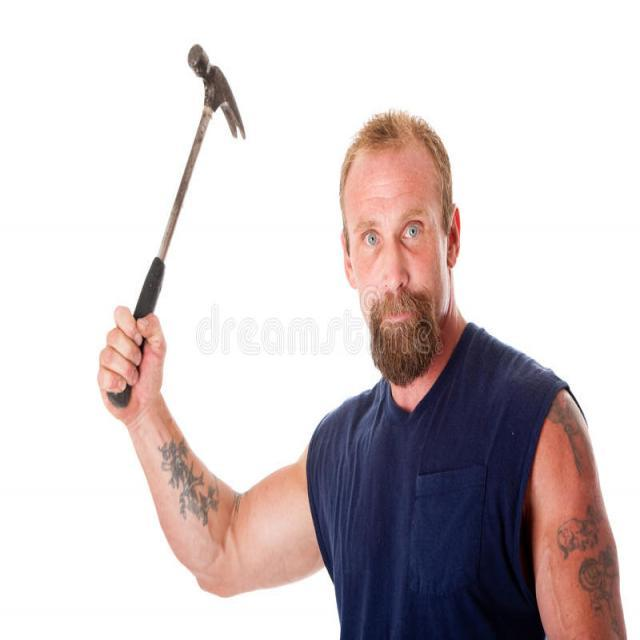hammer: (104, 39, 250, 413)
